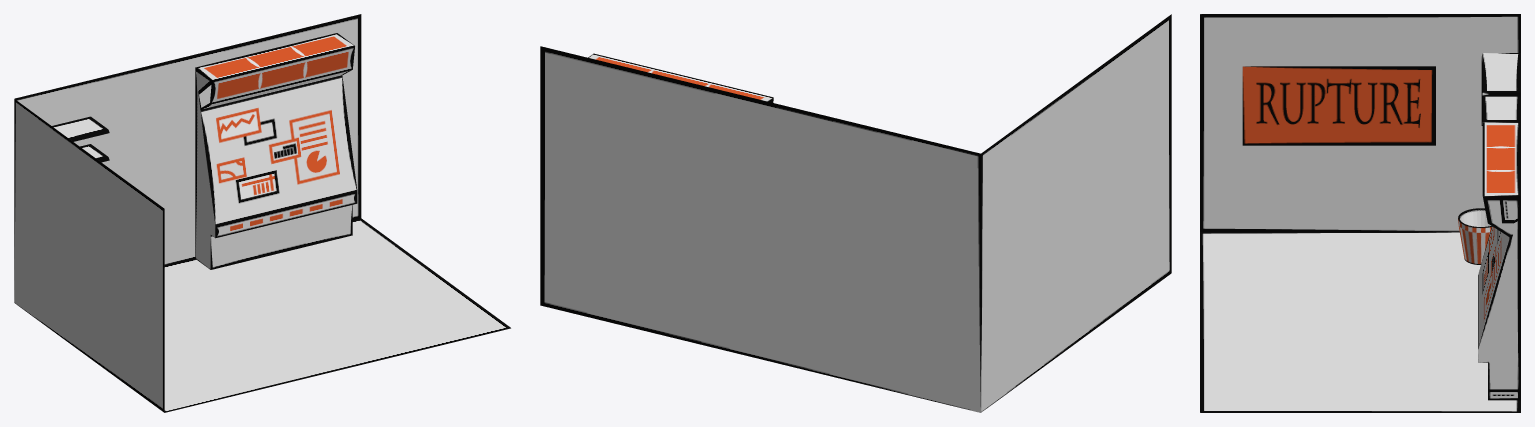
The model's file is office2.fbx.
3 views of the same model, side by side, from view 1: azimuth 30°, elevation 25°; view 2: azimuth 150°, elevation 25°; view 3: azimuth 270°, elevation 25° (orthographic). The views are drawn at different scales.
Visible parts, largest first — view 1: Cylinder; view 2: Cylinder; view 3: Cylinder.
Boxes of the visible parts, x1,y1,x2,y2 form: Cylinder: (14, 14, 510, 412); Cylinder: (540, 14, 1171, 412); Cylinder: (1200, 14, 1520, 412).
Bounding box in the file's own units: 3200 × 1800 × 2400.
Materials: 1 (1 with a texture image).
